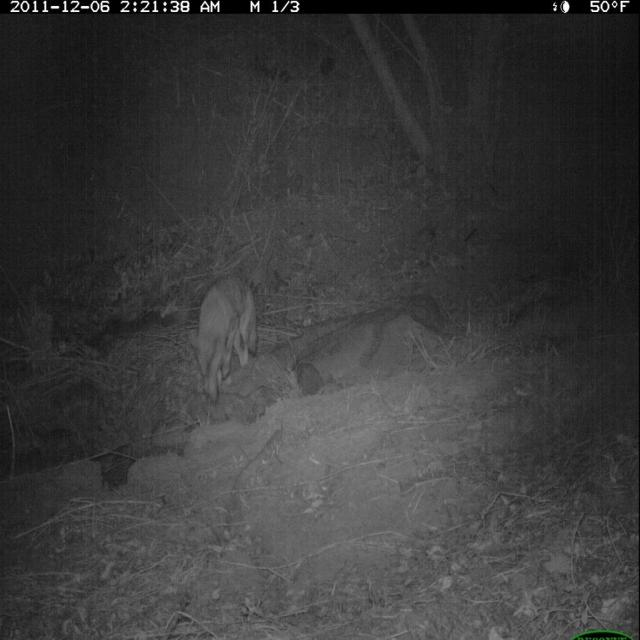coyote: (185, 268, 267, 416)
